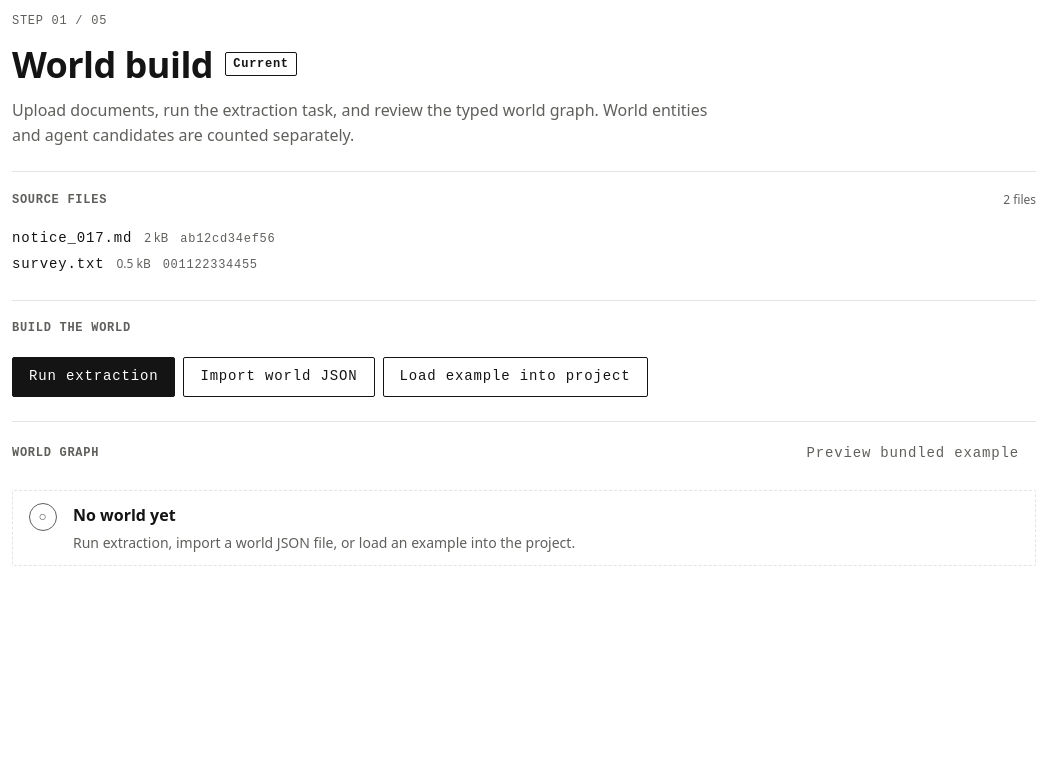
Step1WorldBuild › extraction › shows a clear notice when the server has no extractor (501)
Step 1. Click the button with test id "run-extraction" → click(94, 377), box x1=12 y1=357 x2=175 y2=397
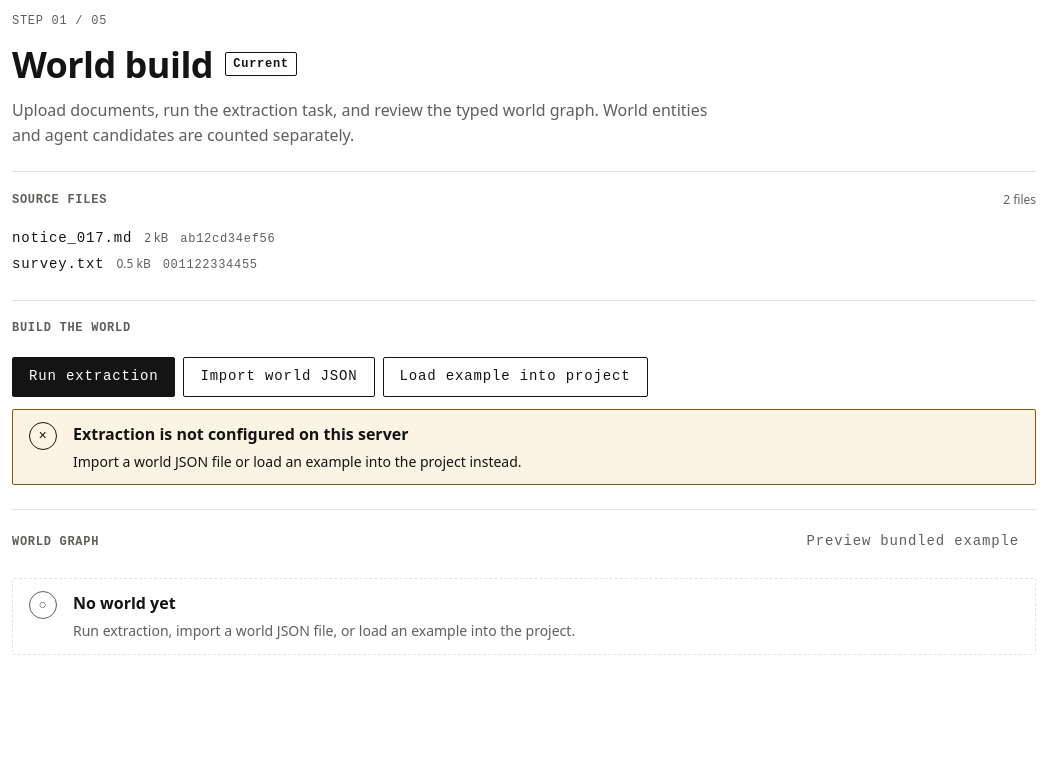
Result: the message with test id "extraction-unavailable" shows "Extraction is not configured on this server" at x1=73 y1=423 x2=408 y2=445
Result: the message with test id "extraction-unavailable" shows "Import a world JSON file or load an example" at x1=73 y1=452 x2=522 y2=470
